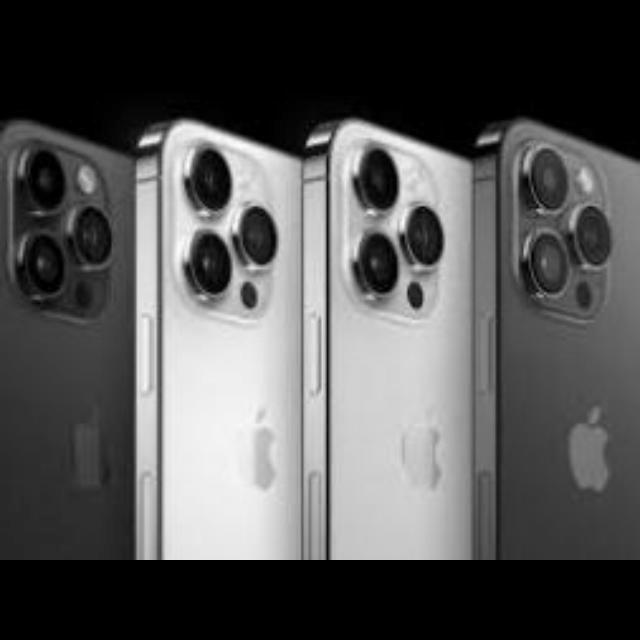fake: (2, 118, 640, 558)
